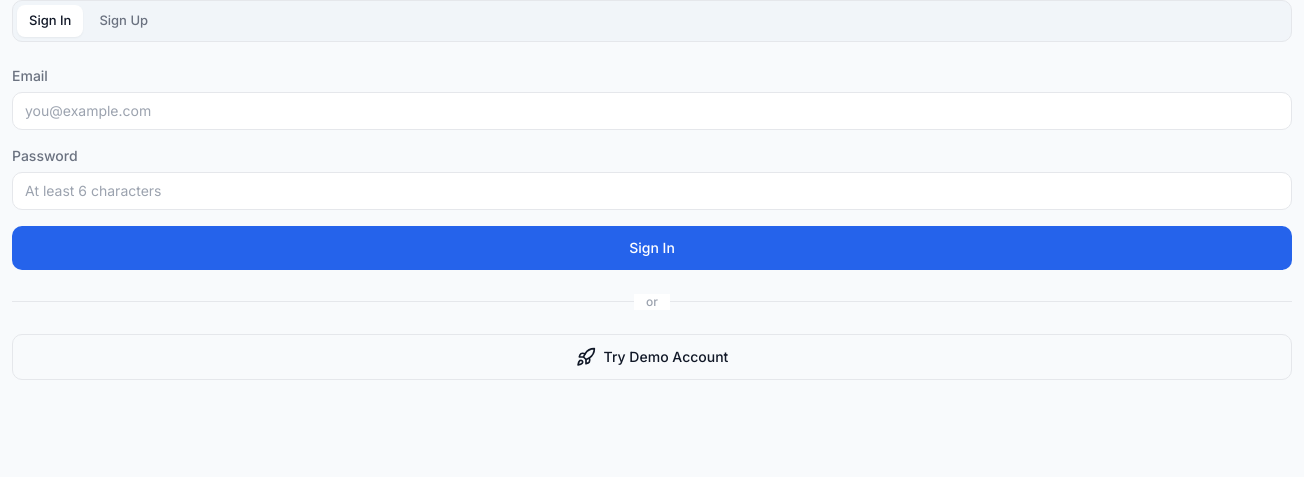
it: Auth Page › switches to register form
Click the button "Sign Up".
click(124, 21)  # box [87,5,160,36]
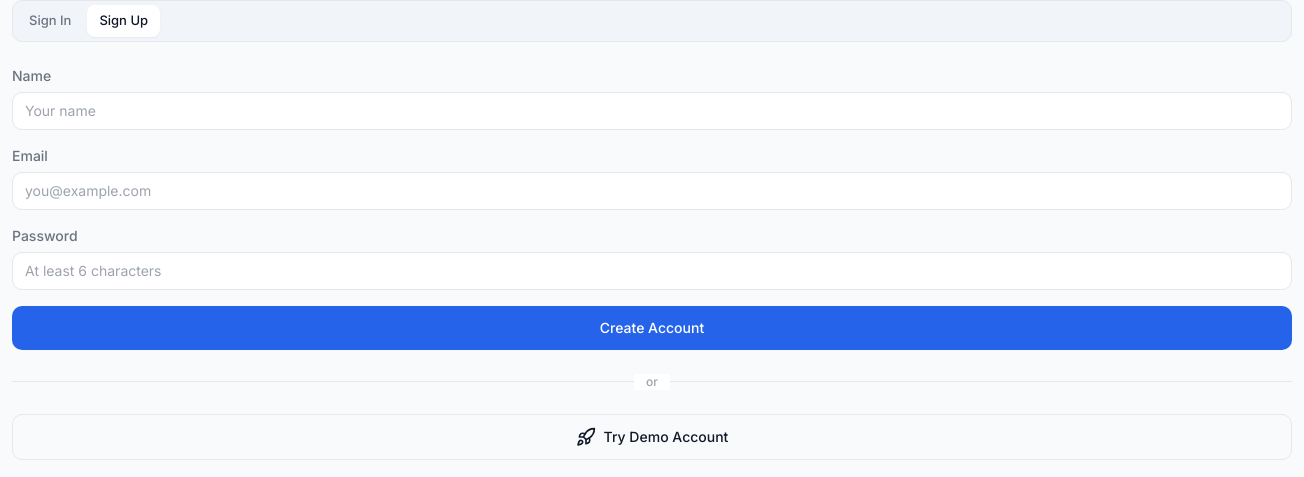
Check: the button "Create Account" is shown, box [12,306,1292,350]
